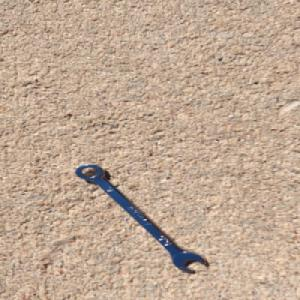Wrench: (74, 163, 207, 274)
